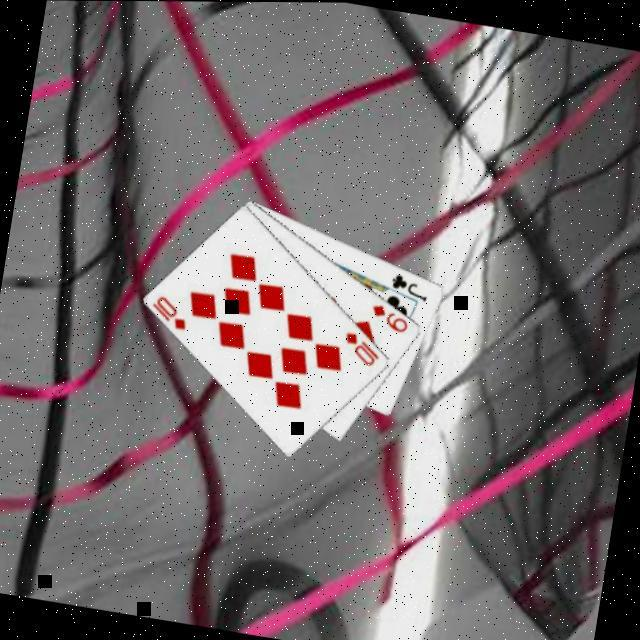10D: (145, 291, 193, 333), (338, 327, 385, 369)
9D: (366, 300, 412, 336)
JC: (385, 268, 433, 303)
